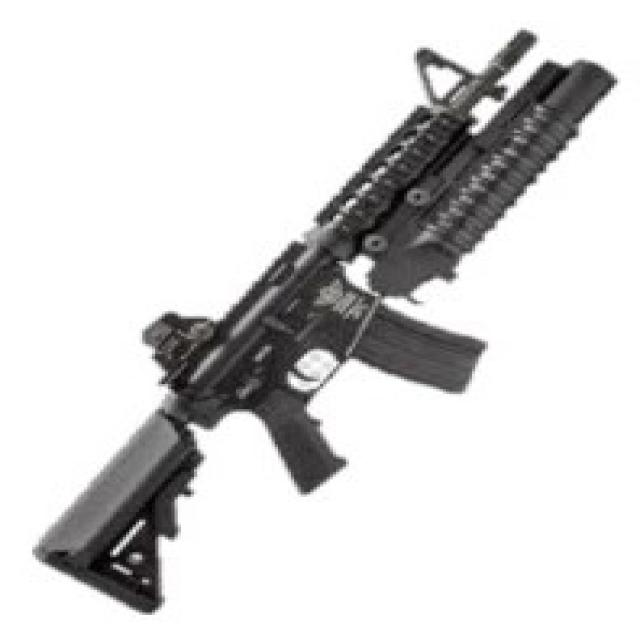rifle: (30, 16, 625, 625)
